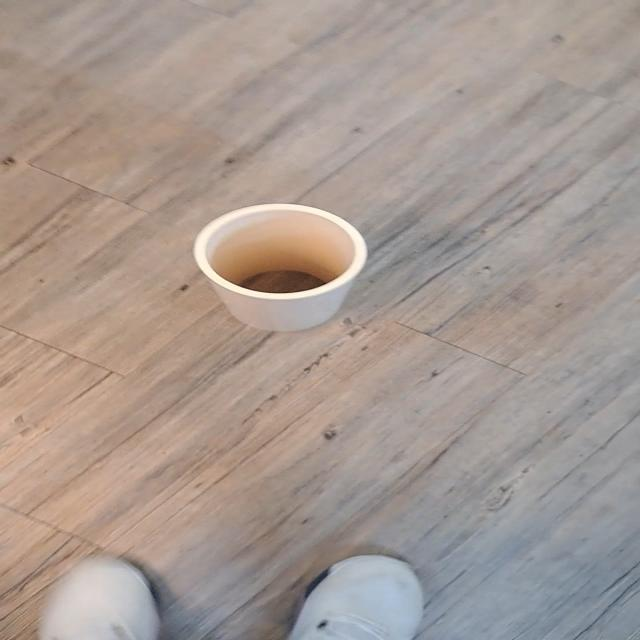CORAL: (160, 185, 407, 338)
